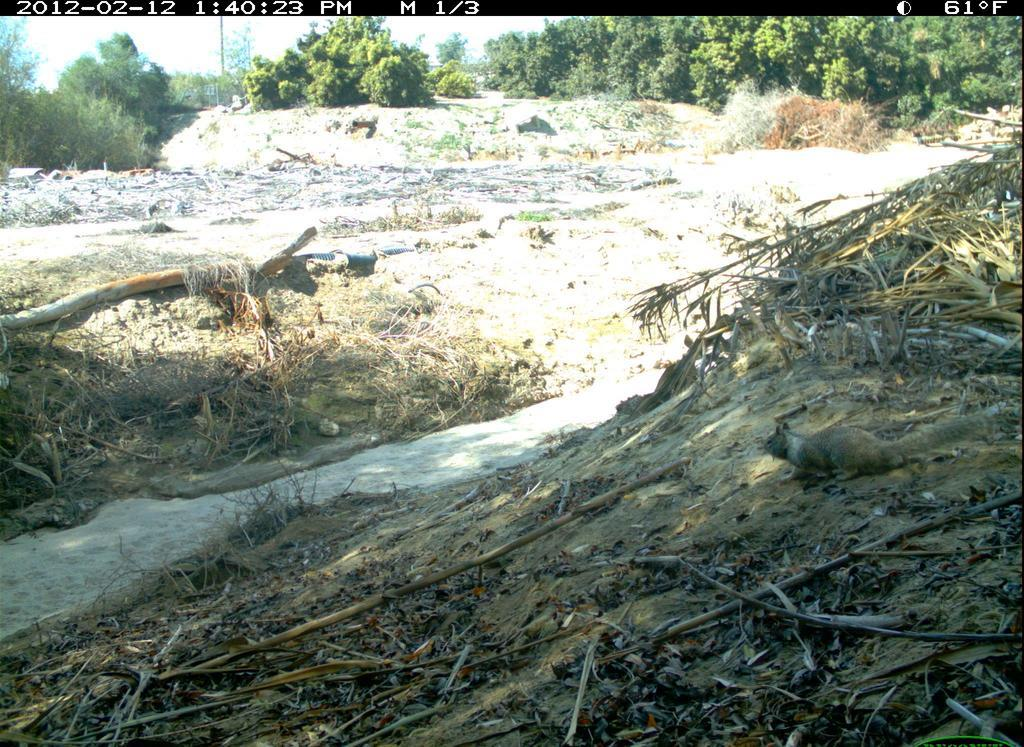squirrel: (760, 405, 991, 489)
